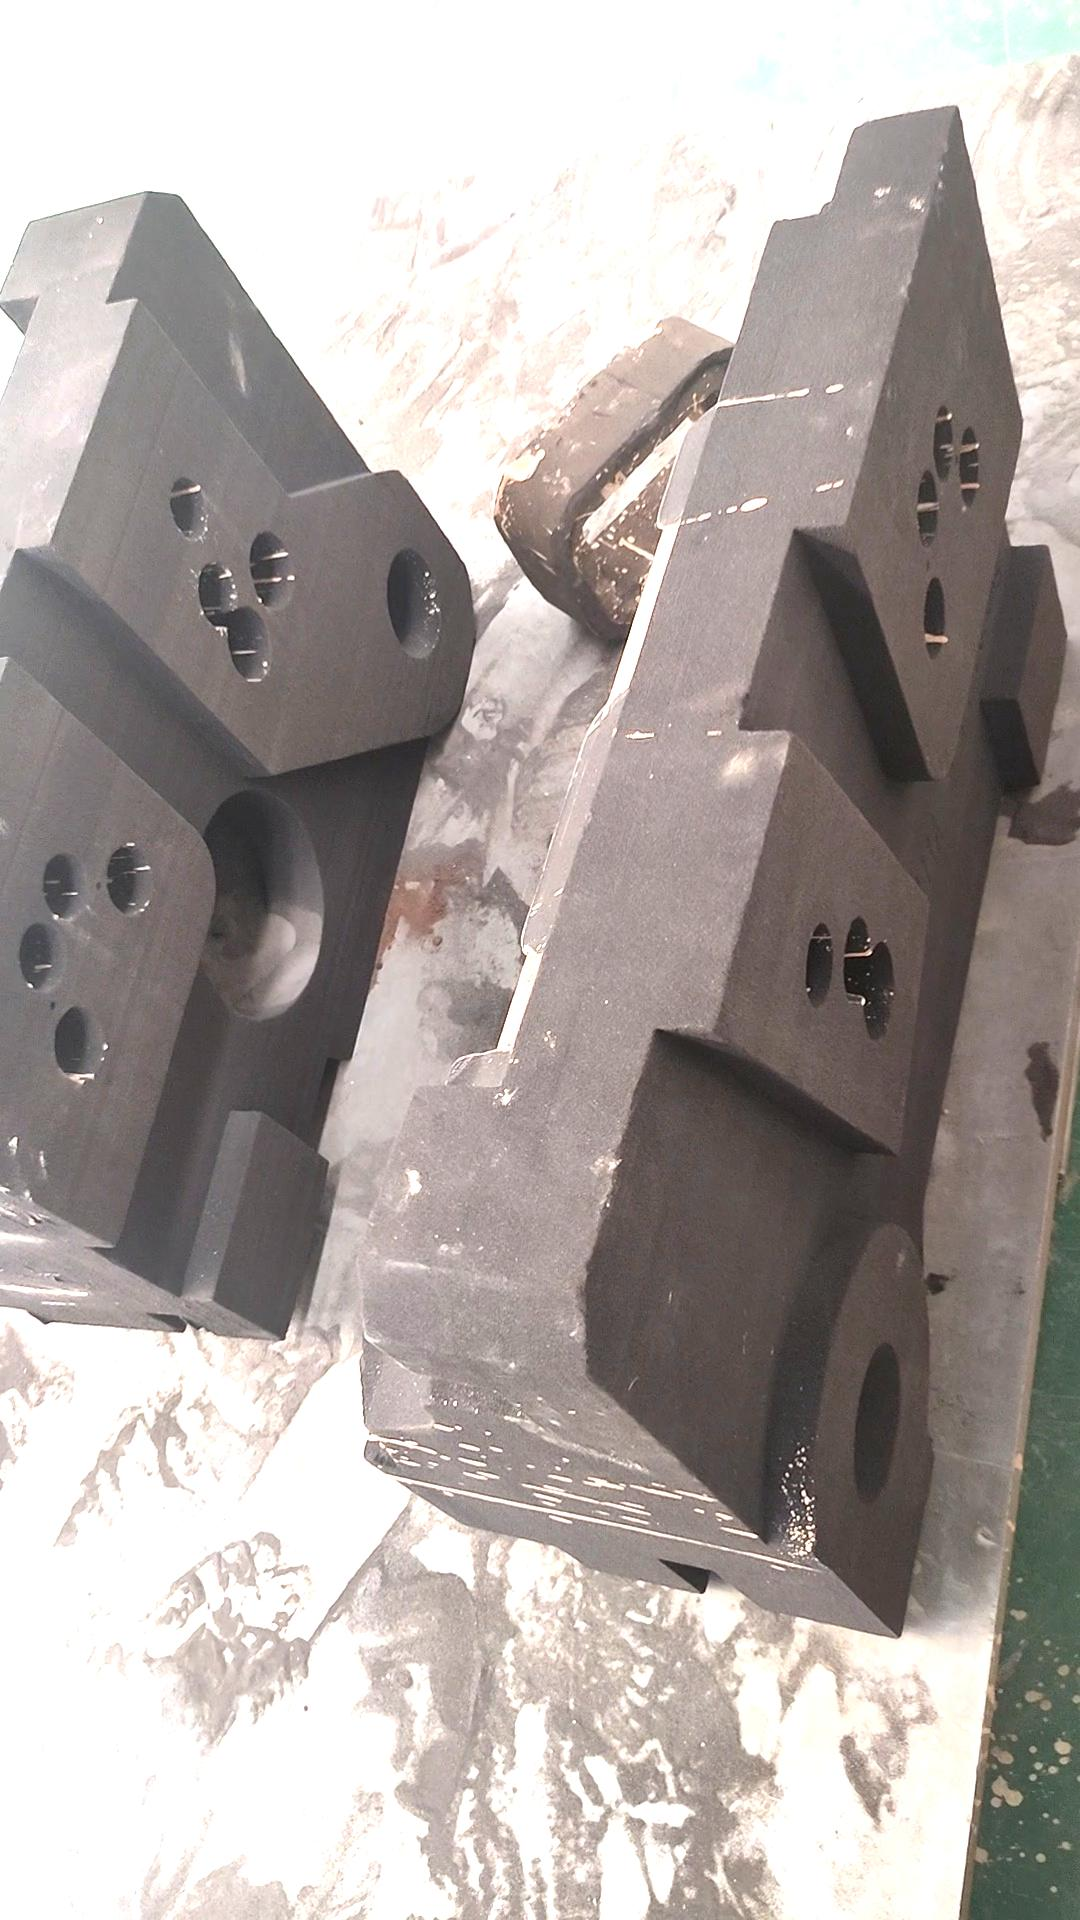pouring hole: (851, 1341, 905, 1501), (384, 545, 444, 659)
